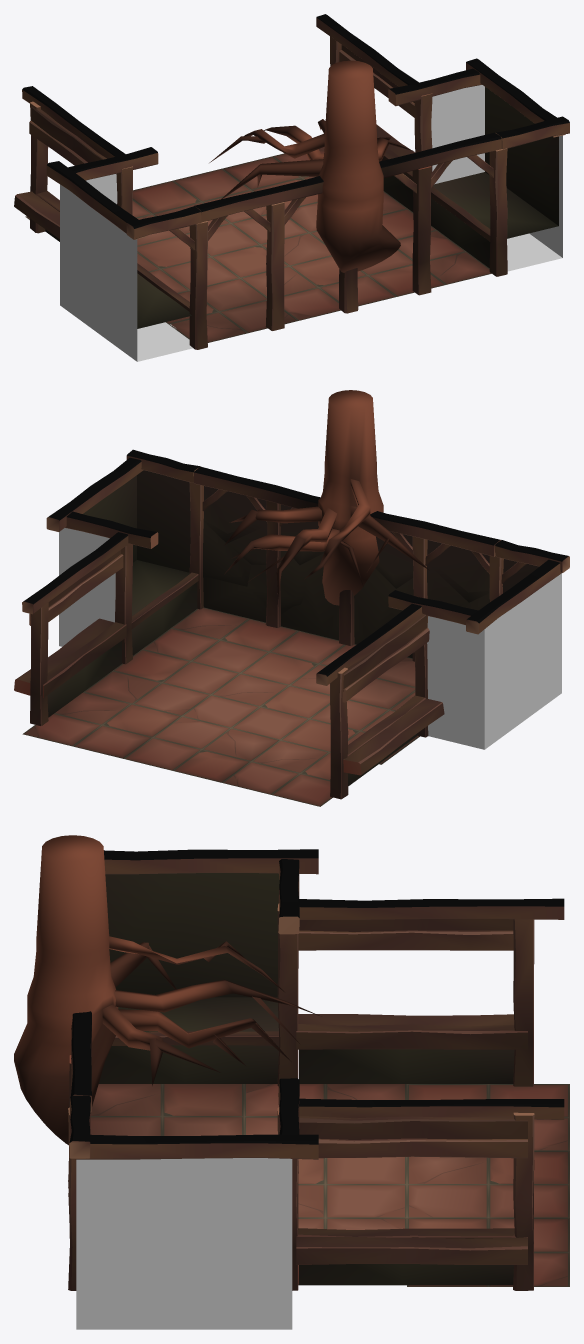
3 renders of one model, top to bottom at view 1: azimuth 30°, elevation 25°; view 2: azimuth 150°, elevation 25°; view 3: azimuth 270°, elevation 25°, orthographic. The views are drawn at different scales.
Parts seen in each view (by area): view 1: MESH_WoodFrame, MESH_Floor, MESH_OutterWalls, MESH_Root, MESH_Walls; view 2: MESH_WoodFrame, MESH_Floor, MESH_Walls, MESH_OutterWalls, MESH_Root; view 3: MESH_WoodFrame, MESH_Walls, MESH_OutterWalls, MESH_Floor, MESH_Root.
Boxes of the visible parts, x1,y1,x2,y2 form: MESH_WoodFrame: [14, 14, 569, 349]; MESH_Floor: [25, 147, 491, 342]; MESH_OutterWalls: [60, 85, 562, 361]; MESH_Root: [209, 60, 414, 272]; MESH_Walls: [45, 87, 558, 328]; MESH_WoodFrame: [14, 449, 569, 799]; MESH_Floor: [22, 607, 419, 806]; MESH_Walls: [47, 470, 538, 786]; MESH_OutterWalls: [59, 528, 561, 749]; MESH_Root: [224, 390, 429, 605]; MESH_WoodFrame: [68, 849, 564, 1290]; MESH_Walls: [98, 873, 514, 1285]; MESH_OutterWalls: [76, 1158, 292, 1329]; MESH_Floor: [90, 1084, 569, 1286]; MESH_Root: [14, 835, 321, 1144].
Bounding box in the file's own units: 2211 × 1168 × 1751.
